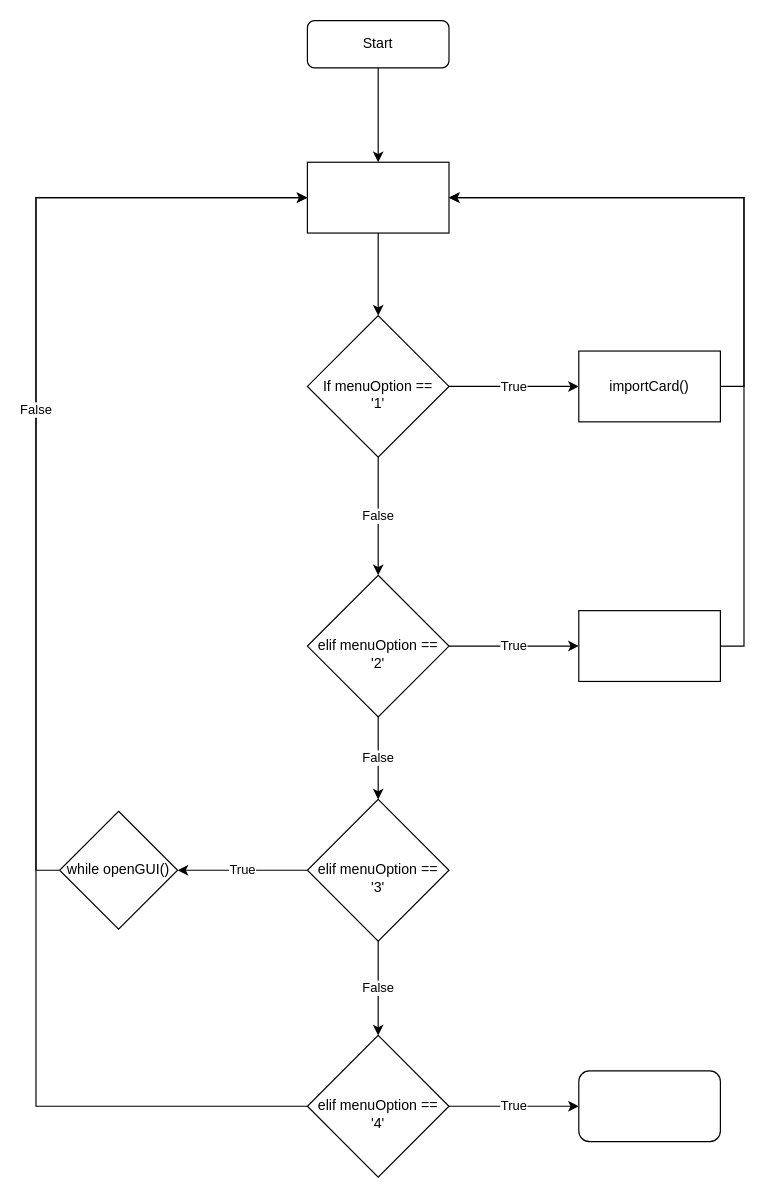
Image size: 774x1198. Some labels were removed from this diagram. The shapes that lost their labels are listed below. From the top down, each one's centre as x and y in pixels, then its label:
the point at 377,197: menuOption = menu()
the point at 649,645: importCSV()
the point at 649,1106: End
